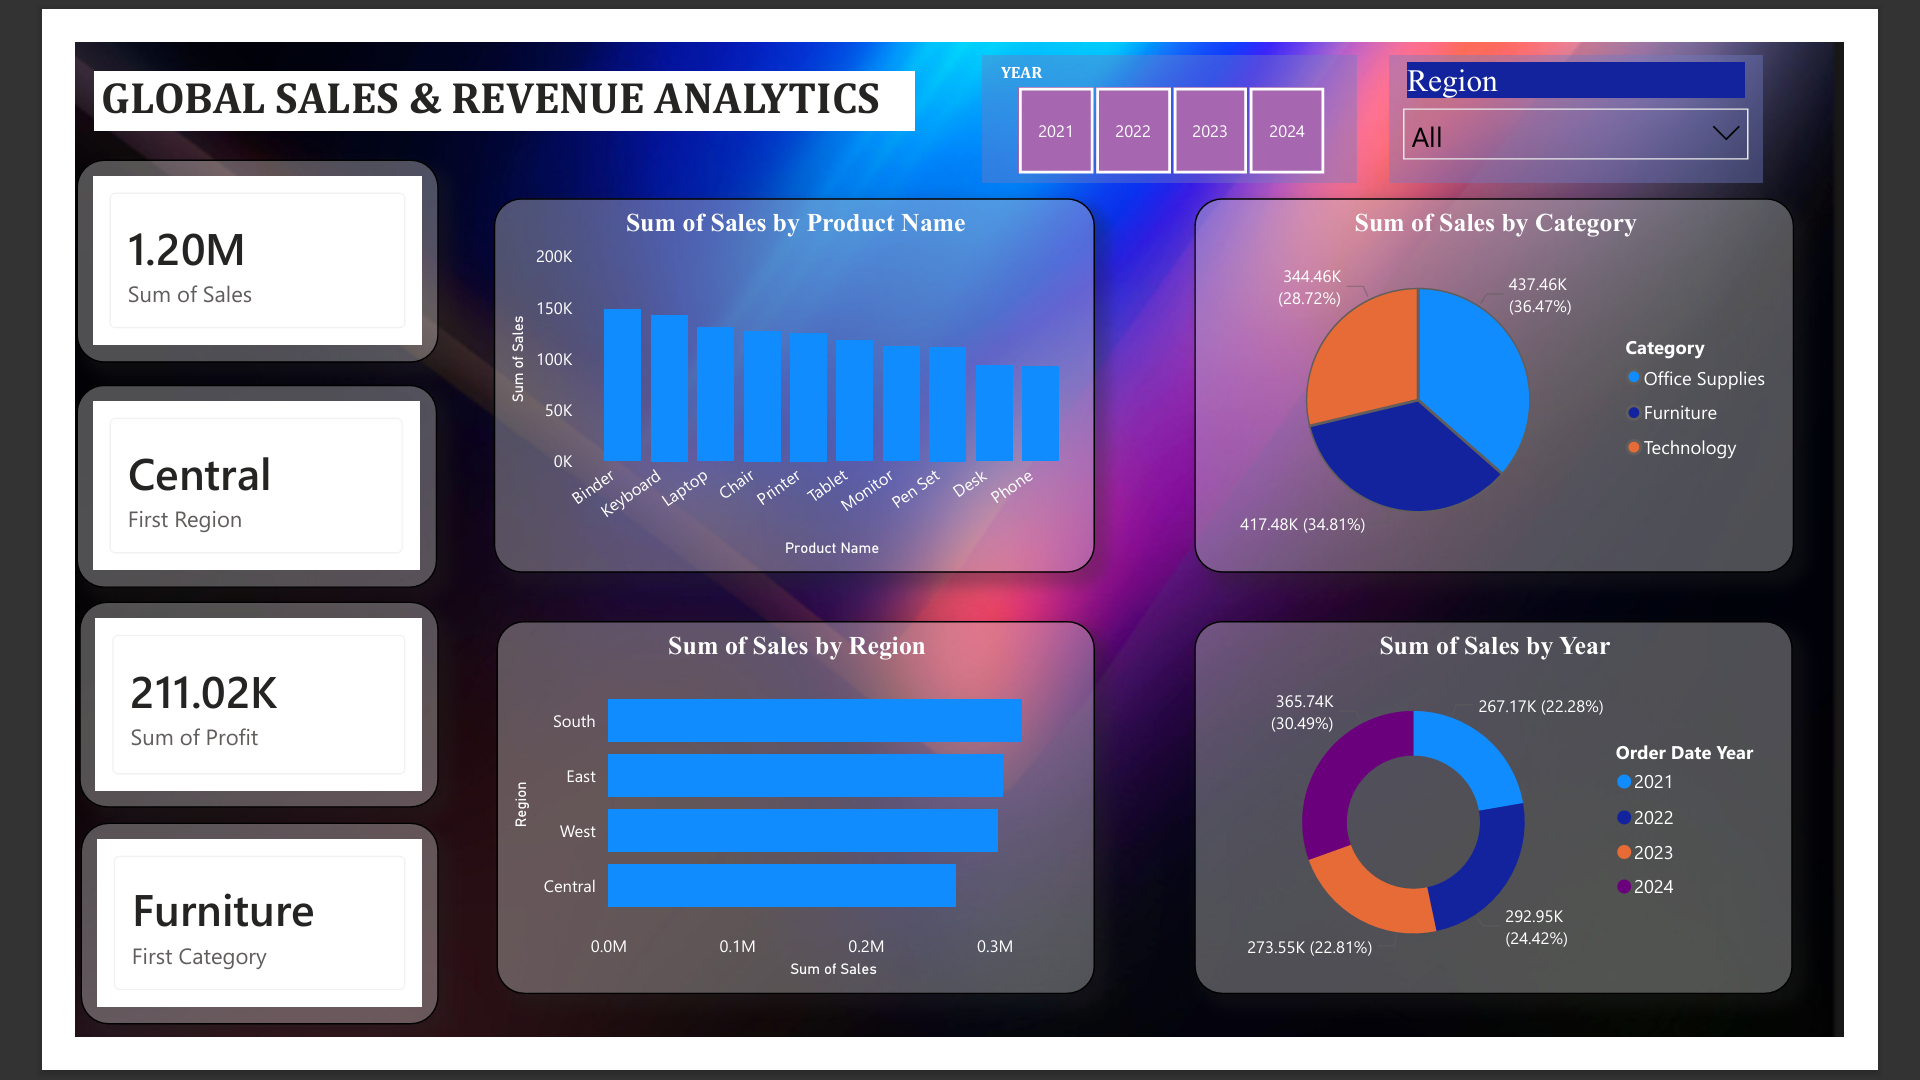

The dashboard page shown, as its layout file describes it:
{"tool":"powerbi","page":{"name":"Page 1","canvas":[1280,720],"ordinal":0},"visuals":[{"type":"donutChart","fields":{"Category":["SalesData.Order Date.Variation.Date Hierarchy.Year","SalesData.Order Date.Variation.Date Hierarchy.Quarter","SalesData.Order Date.Variation.Date Hierarchy.Month","SalesData.Order Date.Variation.Date Hierarchy.Day"],"Y":["Sum(SalesData.Sales)"]},"box":[809.6,418.5,433.6,270.3],"z":0},{"type":"clusteredColumnChart","fields":{"Category":["SalesData.Product Name"],"Y":["Sum(SalesData.Sales)"]},"box":[303.3,112.5,435,271.7],"z":1000},{"type":"pieChart","fields":{"Category":["SalesData.Category"],"Y":["Sum(SalesData.Sales)"]},"box":[809.6,112.5,434,271.7],"z":2000},{"type":"clusteredBarChart","fields":{"Category":["SalesData.Region"],"Y":["Sum(SalesData.Sales)"]},"box":[304.6,418.5,433.6,270.3],"z":3000},{"type":"cardVisual","fields":{"Data":["Sum(SalesData.Sales)"]},"box":[1.4,85.1,262.1,146.8],"z":4000},{"type":"cardVisual","fields":{"Data":["Min(SalesData.Region)"]},"box":[1.4,248.4,260.7,146.8],"z":5000},{"type":"cardVisual","fields":{"Data":["Sum(SalesData.Profit)"]},"box":[2.7,404.8,260.7,149.6],"z":6000},{"type":"cardVisual","fields":{"Data":["Min(SalesData.Category)"]},"box":[4.1,565.4,259.3,145.5],"z":7000},{"type":"textbox","box":[13.7,20.6,594.2,43.9],"z":8000},{"type":"slicer","fields":{"Values":["SalesData.Order Date.Variation.Date Hierarchy.Year"]},"box":[657.3,9.6,270.3,91.9],"z":9000},{"type":"slicer","fields":{"Values":["SalesData.Region"]},"box":[950.9,9.6,270.3,91.9],"z":10000}]}

Visuals, with their boxes in screenshot pixels (x1, y1, x2, y2), scaled from the page's 1280x720 canvas onto the 1920x1080 screenshot:
donutChart - SalesData.Order Date.Variation.Date Hierarchy.Year x SalesData.Order Date.Variation.Date Hierarchy.Quarter: 1214/628/1865/1033
clusteredColumnChart - SalesData.Product Name x Sum(SalesData.Sales): 455/169/1107/576
pieChart - SalesData.Category x Sum(SalesData.Sales): 1214/169/1865/576
clusteredBarChart - SalesData.Region x Sum(SalesData.Sales): 457/628/1107/1033
cardVisual - Sum(SalesData.Sales): 2/128/395/348
cardVisual - Min(SalesData.Region): 2/373/393/593
cardVisual - Sum(SalesData.Profit): 4/607/395/832
cardVisual - Min(SalesData.Category): 6/848/395/1066
textbox: 21/31/912/97
slicer - SalesData.Order Date.Variation.Date Hierarchy.Year: 986/14/1391/152
slicer - SalesData.Region: 1426/14/1832/152
